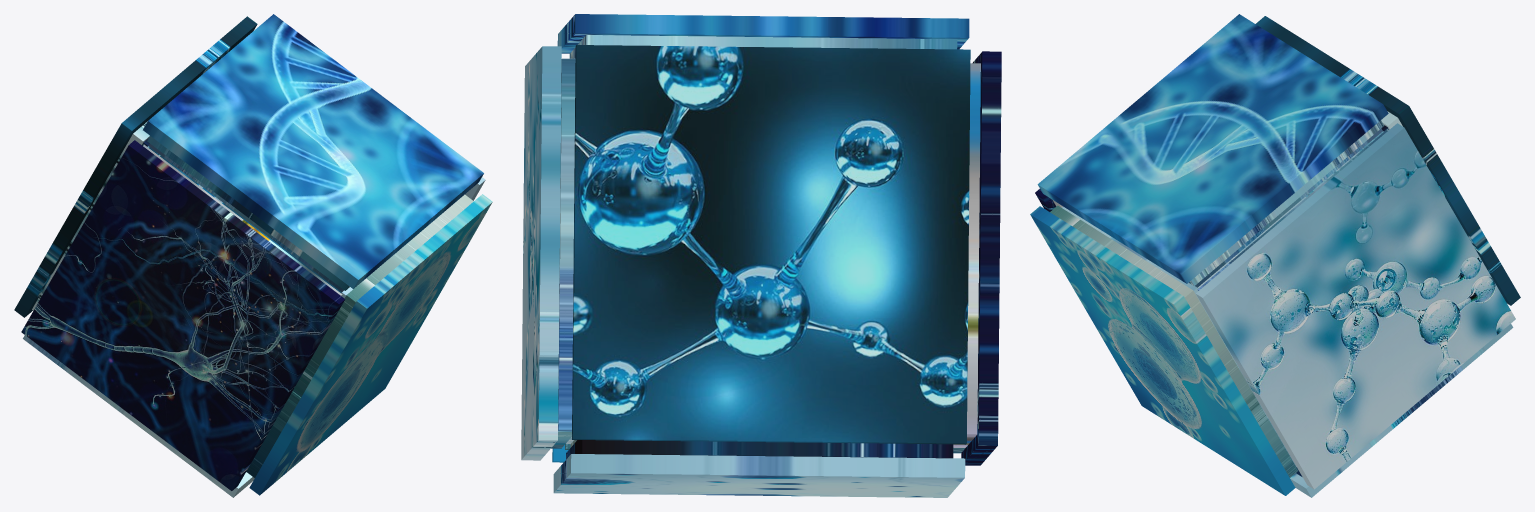
The model's file is ad-medica-cube.glb.
3 renders of one model, left to right at view 1: azimuth 30°, elevation 25°; view 2: azimuth 150°, elevation 25°; view 3: azimuth 270°, elevation 25°, orthographic. The views are drawn at different scales.
Parts seen in each view (by area): view 1: cube_outside_4_fracturepart, cube_outside_5_fracturepart, cube_outside_1_fracturepart, cube_outside_3_fracturepart, cube_inside_6_fracturepart, cube_inside_2_fracturepart, cube_outside_6_fracturepart, cube_1, cube_inside_4_fracturepart, cube_inside_3_fracturepart; view 2: cube_outside_3_fracturepart, cube_outside_6_fracturepart, cube_outside_2_fracturepart, cube_outside_5_fracturepart, cube_outside_4_fracturepart, cube_inside_5_fracturepart, cube_inside_1_fracturepart, cube_inside_3_fracturepart, cube_inside_2_fracturepart; view 3: cube_outside_2_fracturepart, cube_outside_5_fracturepart, cube_outside_1_fracturepart, cube_outside_3_fracturepart, cube_inside_6_fracturepart, cube_inside_2_fracturepart, cube_outside_6_fracturepart, cube_1, cube_5, cube_inside_5_fracturepart.
Part boxes in pixels (left/top/right/bottom): cube_outside_4_fracturepart: left=21, top=140, right=345, bottom=490; cube_outside_5_fracturepart: left=143, top=14, right=483, bottom=288; cube_outside_1_fracturepart: left=249, top=194, right=492, bottom=495; cube_outside_3_fracturepart: left=14, top=16, right=257, bottom=317; cube_inside_6_fracturepart: left=246, top=194, right=473, bottom=477; cube_inside_2_fracturepart: left=147, top=136, right=349, bottom=290; cube_outside_6_fracturepart: left=23, top=335, right=254, bottom=497; cube_1: left=148, top=143, right=343, bottom=291; cube_inside_4_fracturepart: left=32, top=121, right=149, bottom=310; cube_inside_3_fracturepart: left=143, top=144, right=342, bottom=295; cube_outside_3_fracturepart: left=572, top=45, right=970, bottom=444; cube_outside_6_fracturepart: left=553, top=454, right=965, bottom=497; cube_outside_2_fracturepart: left=521, top=46, right=561, bottom=460; cube_outside_5_fracturepart: left=557, top=14, right=969, bottom=53; cube_outside_4_fracturepart: left=961, top=51, right=1001, bottom=465; cube_inside_5_fracturepart: left=551, top=58, right=575, bottom=448; cube_inside_1_fracturepart: left=566, top=440, right=953, bottom=459; cube_inside_3_fracturepart: left=953, top=63, right=980, bottom=453; cube_inside_2_fracturepart: left=569, top=35, right=957, bottom=58; cube_outside_2_fracturepart: left=1195, top=123, right=1515, bottom=489; cube_outside_5_fracturepart: left=1037, top=14, right=1388, bottom=283; cube_outside_1_fracturepart: left=1030, top=206, right=1295, bottom=495; cube_outside_3_fracturepart: left=1256, top=16, right=1520, bottom=305; cube_inside_6_fracturepart: left=1050, top=205, right=1298, bottom=477; cube_inside_2_fracturepart: left=1189, top=120, right=1384, bottom=285; cube_outside_6_fracturepart: left=1290, top=324, right=1513, bottom=497; cube_1: left=1195, top=128, right=1382, bottom=287; cube_5: left=1062, top=206, right=1296, bottom=466; cube_inside_5_fracturepart: left=1197, top=129, right=1388, bottom=290.
Bounding box in the file's own units: 3.46 × 3.11 × 3.68.
Materials: 14 (12 with a texture image).
